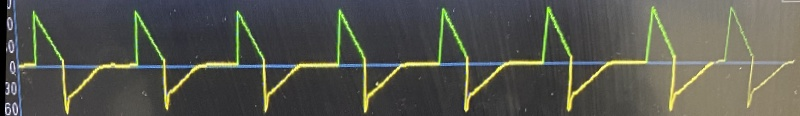normal_flow: (25, 0, 741, 116)
